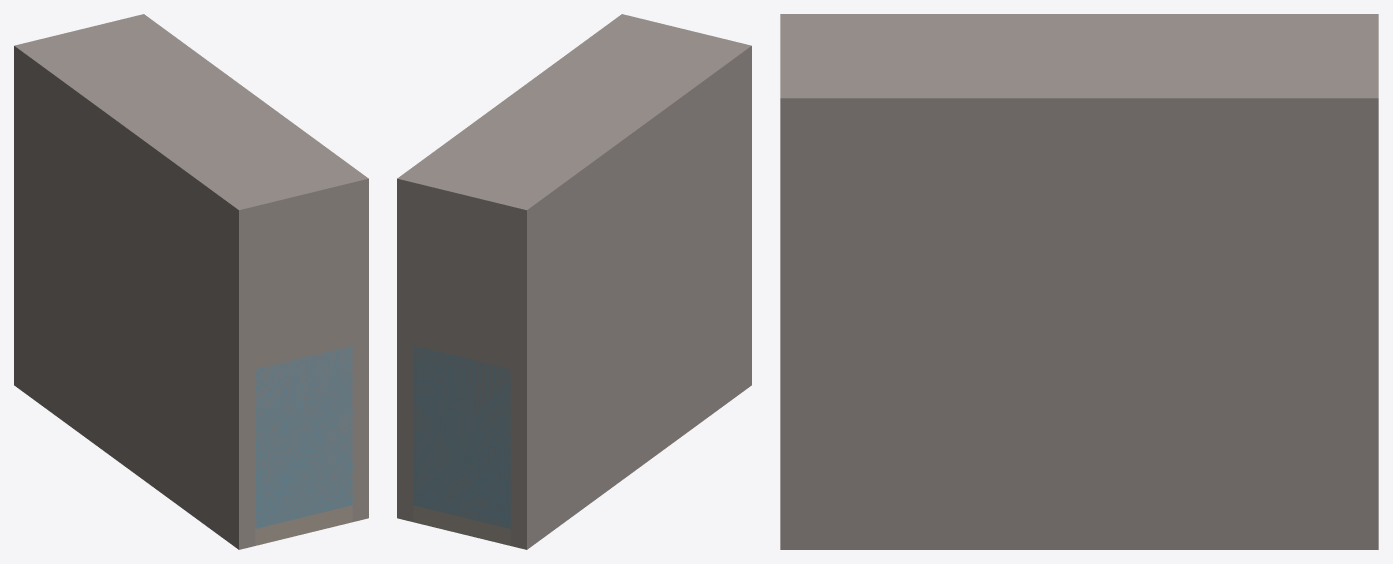
Rendered from rill-sump.glb.
The picture shows the model from 3 angles, left to right: view 1: azimuth 30°, elevation 25°; view 2: azimuth 150°, elevation 25°; view 3: azimuth 270°, elevation 25°; orthographic projection. The views are drawn at different scales.
Parts seen in each view (by area): view 1: rock_1, rock_9, rock_4, water_2, plug_rill_south.001, plug_rill_south, rock_2, rock_5, cave-floor_1, rock_8; view 2: rock_1, rock_9, rock_4, water_1, plug_rill_north.001, plug_rill_north, rock_2, rock_5, cave-floor_1, rock_7; view 3: rock_2, rock_5, rock_9.
Part boxes in pixels (<box>): rock_1: <box>14,198,255,549</box>; rock_9: <box>14,14,368,227</box>; rock_4: <box>14,63,255,362</box>; water_2: <box>255,345,352,528</box>; plug_rill_south.001: <box>255,335,352,528</box>; plug_rill_south: <box>255,216,352,358</box>; rock_2: <box>352,331,368,521</box>; rock_5: <box>352,195,368,335</box>; cave-floor_1: <box>255,505,352,545</box>; rock_8: <box>255,199,352,240</box>; rock_1: <box>510,198,751,549</box>; rock_9: <box>397,14,751,227</box>; rock_4: <box>510,63,751,362</box>; water_1: <box>413,345,510,528</box>; plug_rill_north.001: <box>413,335,510,528</box>; plug_rill_north: <box>413,216,510,358</box>; rock_2: <box>397,331,413,521</box>; rock_5: <box>397,195,413,335</box>; cave-floor_1: <box>413,505,510,545</box>; rock_7: <box>413,199,510,240</box>; rock_2: <box>780,301,1378,549</box>; rock_5: <box>780,121,1378,301</box>; rock_9: <box>780,14,1378,120</box>.
Bounding box in the file's own units: 4 × 10 × 12.
